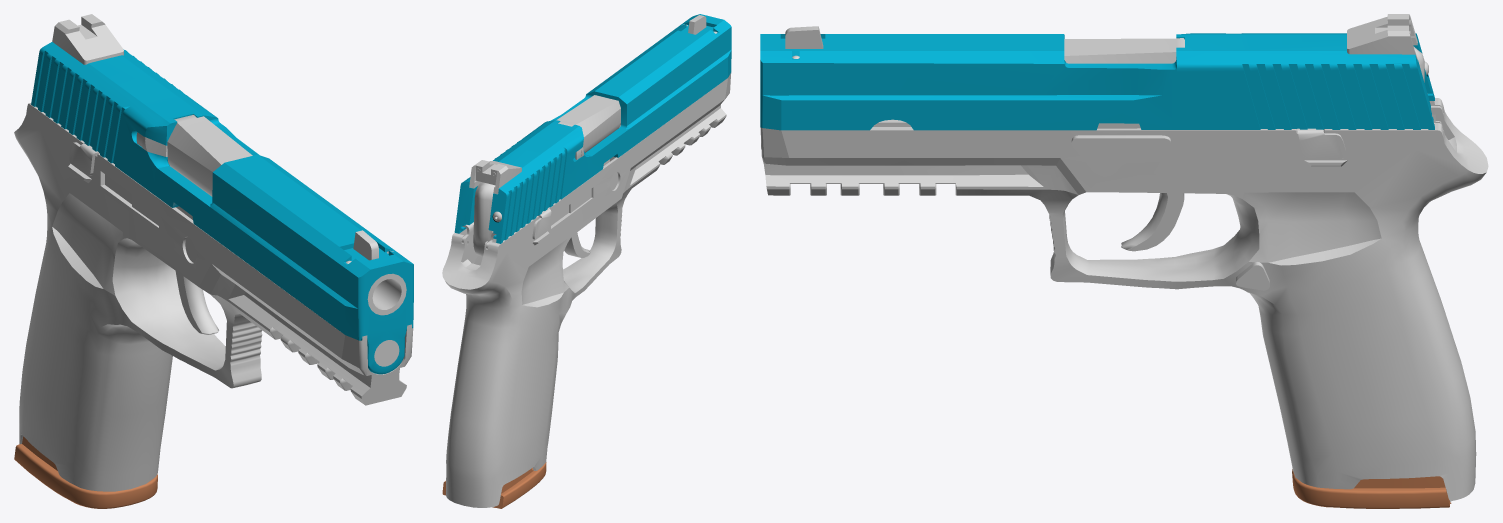
File: A3500X black.fbx
3 renders of one model, left to right at view 1: azimuth 30°, elevation 25°; view 2: azimuth 150°, elevation 25°; view 3: azimuth 270°, elevation 25°, orthographic. The views are drawn at different scales.
Parts seen in each view (by area): view 1: frame_low, slid_low, behind barrel_low, magazinecover_low, behind scoop_low, trigger_low, front barrel_low, body cu_low, front scoop_low, screw_low; view 2: frame_low, slid_low, behind barrel_low, hammer_low, behind scoop_low, magazinecover_low, fcu_low, body cu_low, trigger_low; view 3: frame_low, slid_low, magazinecover_low, handofsrew_low, behind barrel_low, behind scoop_low, trigger_low, body cu_low, front scoop_low.
Boxes of the visible parts, left/top/right/bottom form: frame_low: left=14, top=103, right=413, bottom=491; slid_low: left=31, top=42, right=413, bottom=374; behind barrel_low: left=167, top=114, right=252, bottom=196; magazinecover_low: left=14, top=436, right=157, bottom=508; behind scoop_low: left=52, top=14, right=123, bottom=64; trigger_low: left=175, top=271, right=218, bottom=334; front barrel_low: left=367, top=273, right=406, bottom=315; body cu_low: left=69, top=142, right=99, bottom=176; front scoop_low: left=353, top=230, right=378, bottom=260; screw_low: left=374, top=340, right=399, bottom=366; frame_low: left=442, top=72, right=731, bottom=507; slid_low: left=454, top=14, right=731, bottom=243; behind barrel_low: left=556, top=95, right=620, bottom=152; hammer_low: left=473, top=182, right=495, bottom=256; behind scoop_low: left=469, top=160, right=521, bottom=194; magazinecover_low: left=442, top=462, right=546, bottom=508; fcu_low: left=461, top=159, right=609, bottom=263; body cu_low: left=532, top=208, right=551, bottom=239; trigger_low: left=564, top=232, right=590, bottom=257; frame_low: left=760, top=98, right=1488, bottom=500; slid_low: left=760, top=33, right=1434, bottom=130; magazinecover_low: left=1292, top=469, right=1451, bottom=508; handofsrew_low: left=1071, top=135, right=1170, bottom=176; behind barrel_low: left=1064, top=38, right=1184, bottom=63; behind scoop_low: left=1347, top=14, right=1417, bottom=60; trigger_low: left=1121, top=193, right=1184, bottom=251; body cu_low: left=1297, top=128, right=1346, bottom=158; front scoop_low: left=785, top=26, right=823, bottom=48.
Bounding box in the file's own units: 64.21 × 307 × 436.
